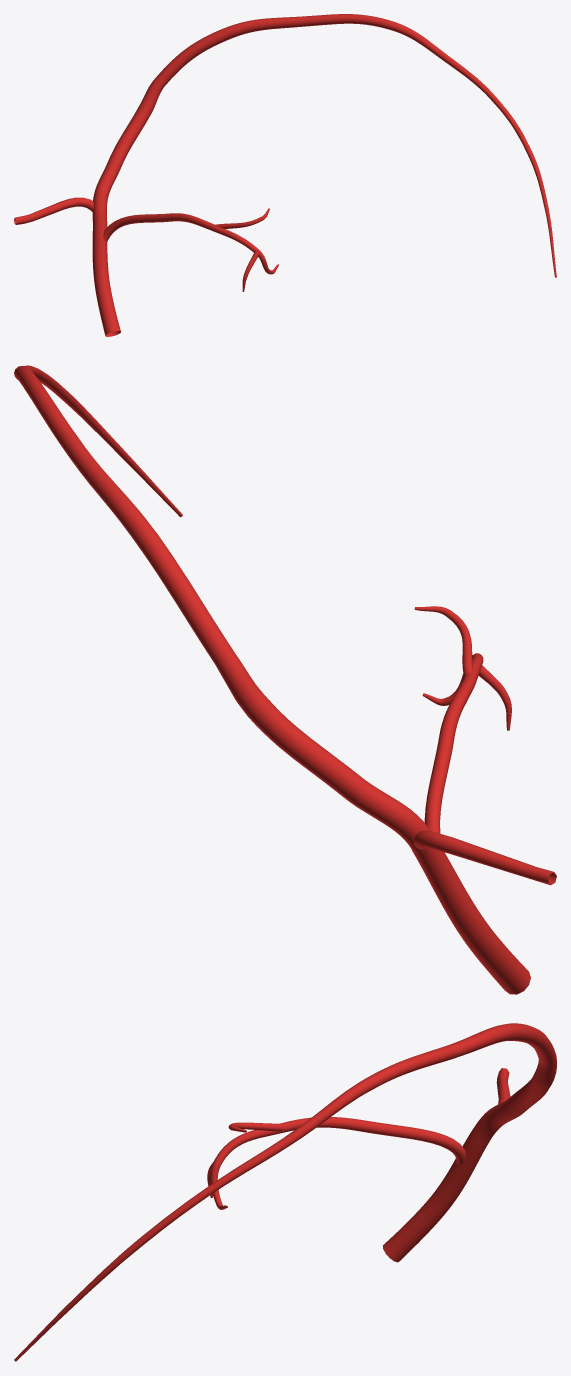
The model's file is circulatorio-iliolumbar-artery-l.glb.
3 views of the same model, one above another, from view 1: azimuth 30°, elevation 25°; view 2: azimuth 150°, elevation 25°; view 3: azimuth 270°, elevation 25° (orthographic). The views are drawn at different scales.
Parts seen in each view (by area): view 1: Iliacus branch of iliolumbar artery.l, Lumbar branch of iliolumbar artery.l, Iliolumbar artery.l, Spinal branch of iliolumbar artery.l; view 2: Iliacus branch of iliolumbar artery.l, Iliolumbar artery.l, Lumbar branch of iliolumbar artery.l, Spinal branch of iliolumbar artery.l; view 3: Iliacus branch of iliolumbar artery.l, Lumbar branch of iliolumbar artery.l, Iliolumbar artery.l.
Part boxes in pixels (x1,y1,x2,y2): Iliacus branch of iliolumbar artery.l: (92, 14, 556, 277); Lumbar branch of iliolumbar artery.l: (103, 208, 278, 291); Iliolumbar artery.l: (92, 213, 120, 336); Spinal branch of iliolumbar artery.l: (14, 197, 93, 224); Iliacus branch of iliolumbar artery.l: (14, 365, 430, 852); Iliolumbar artery.l: (411, 848, 530, 994); Lumbar branch of iliolumbar artery.l: (414, 606, 511, 833); Spinal branch of iliolumbar artery.l: (413, 830, 556, 885); Iliacus branch of iliolumbar artery.l: (14, 1023, 556, 1361); Lumbar branch of iliolumbar artery.l: (207, 1117, 465, 1209); Iliolumbar artery.l: (383, 1128, 490, 1262).
Size of the model in its own units: 0.1083 by 0.0693 by 0.0915.
